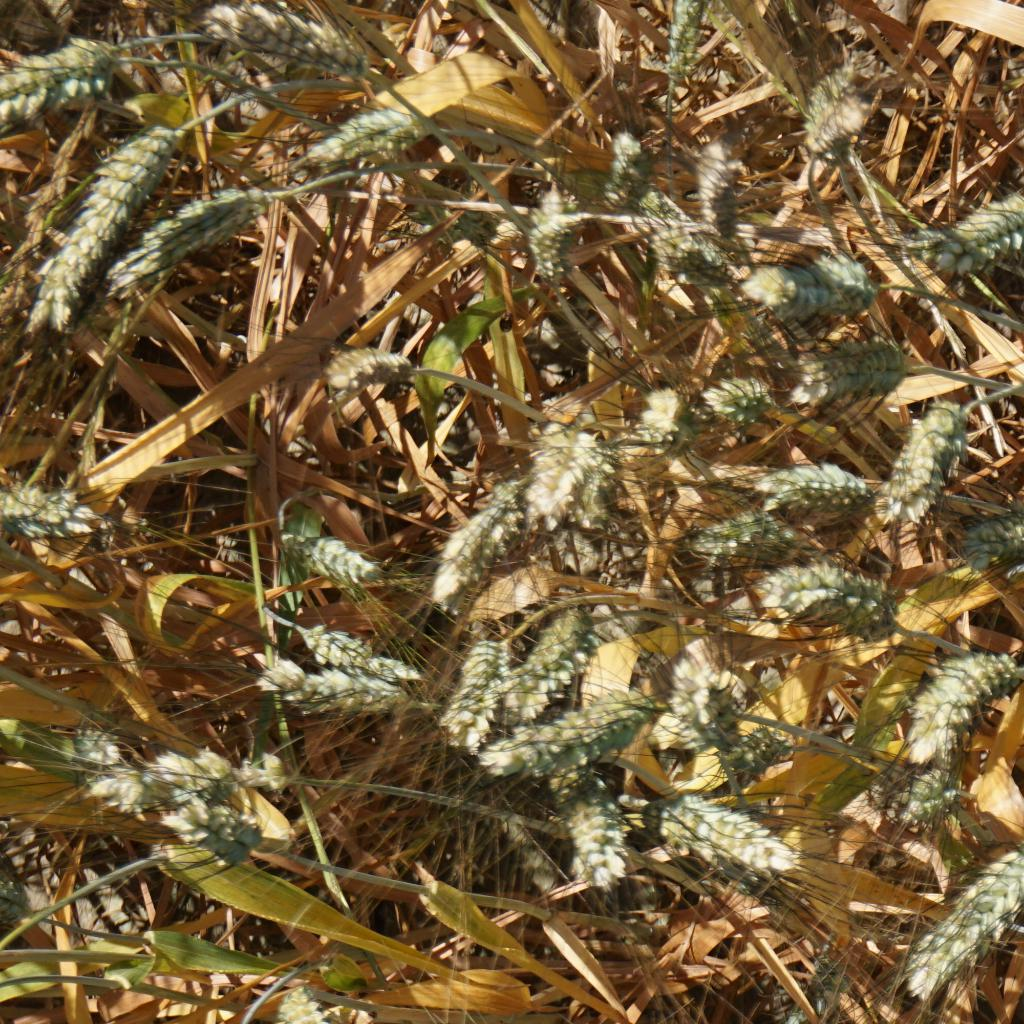0-0: (885, 839, 1024, 996), (54, 115, 154, 321), (115, 172, 268, 290), (467, 691, 644, 787), (487, 605, 606, 734), (891, 632, 1000, 770), (424, 483, 522, 620), (200, 1, 374, 74), (655, 787, 806, 870), (543, 773, 642, 893), (249, 651, 415, 722), (880, 404, 964, 517), (914, 189, 1024, 273), (754, 563, 890, 630), (427, 640, 500, 757), (771, 340, 919, 397), (678, 510, 803, 576), (0, 473, 111, 547), (282, 517, 382, 595), (289, 629, 429, 684), (750, 256, 876, 317), (158, 743, 300, 797), (679, 122, 749, 226), (147, 787, 257, 850), (65, 729, 146, 814), (663, 666, 747, 745), (287, 108, 425, 154), (646, 0, 713, 88), (640, 221, 724, 287), (759, 464, 873, 512), (531, 425, 586, 521), (318, 335, 409, 392), (884, 752, 954, 822), (672, 367, 765, 419), (517, 202, 577, 282), (592, 126, 656, 201), (805, 95, 872, 165), (629, 370, 690, 446), (957, 513, 1023, 582), (0, 37, 114, 76), (791, 62, 885, 108), (0, 72, 122, 107), (732, 720, 796, 776), (265, 981, 337, 1024)
